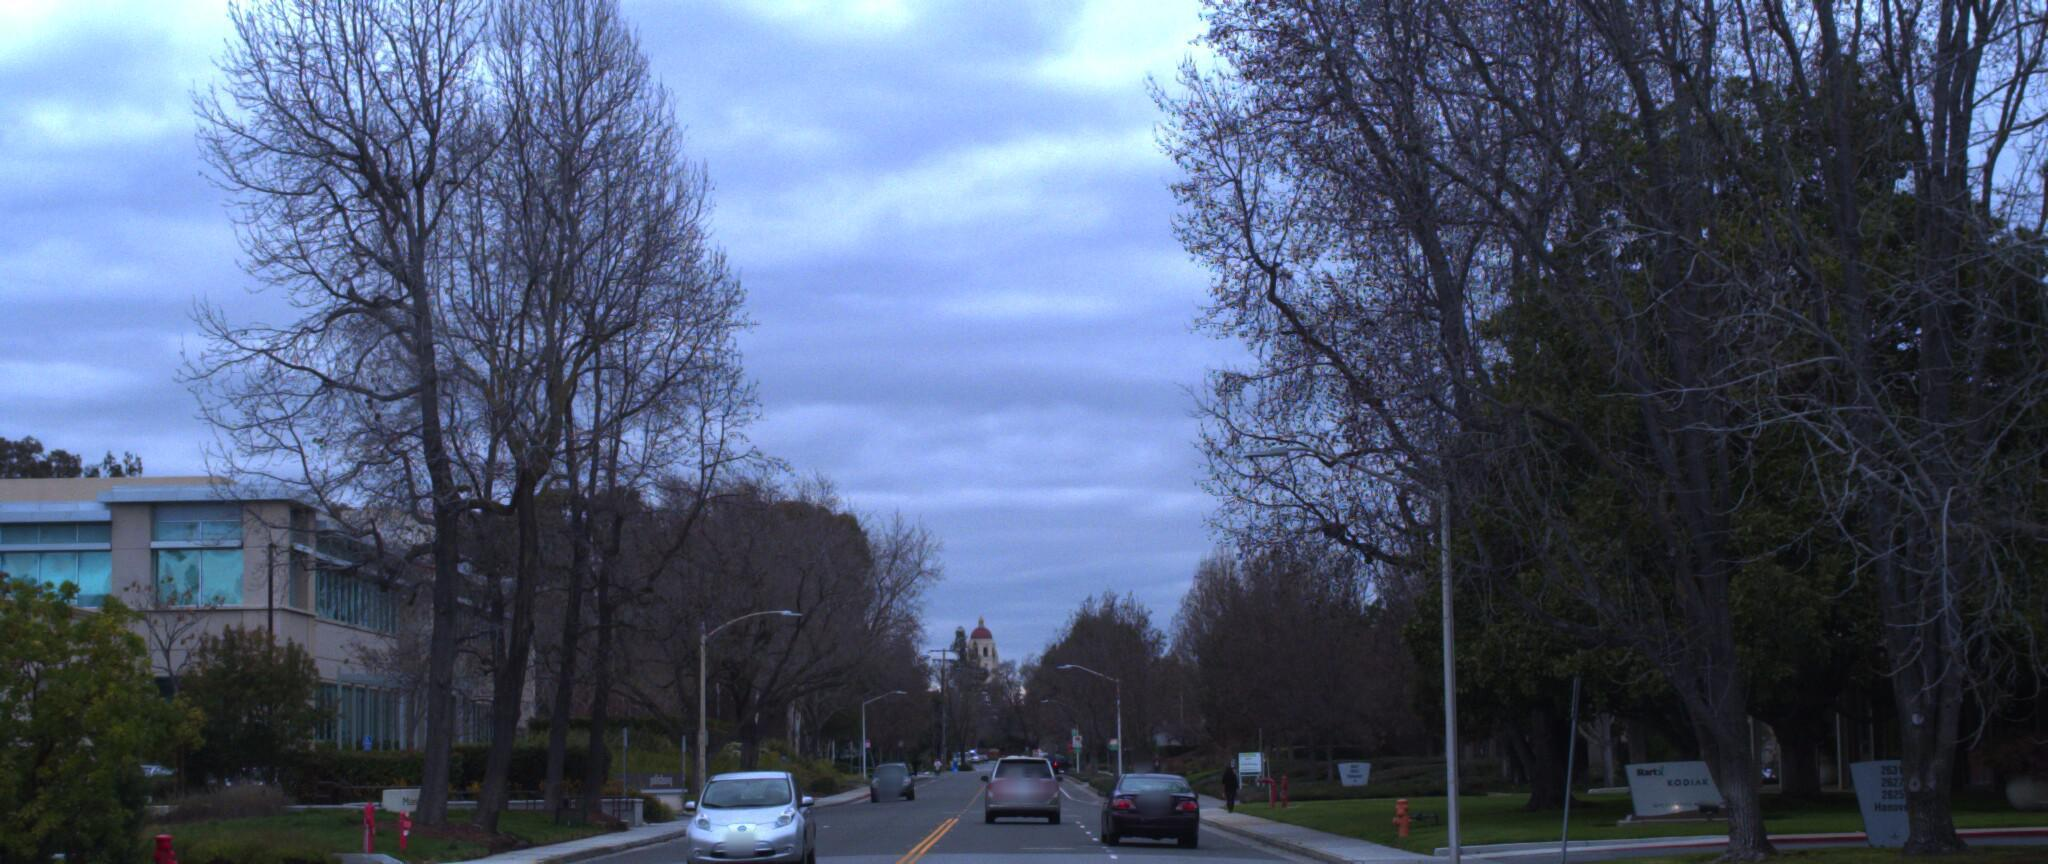car: (667, 753, 812, 860), (1098, 764, 1206, 844), (986, 741, 1068, 810)
